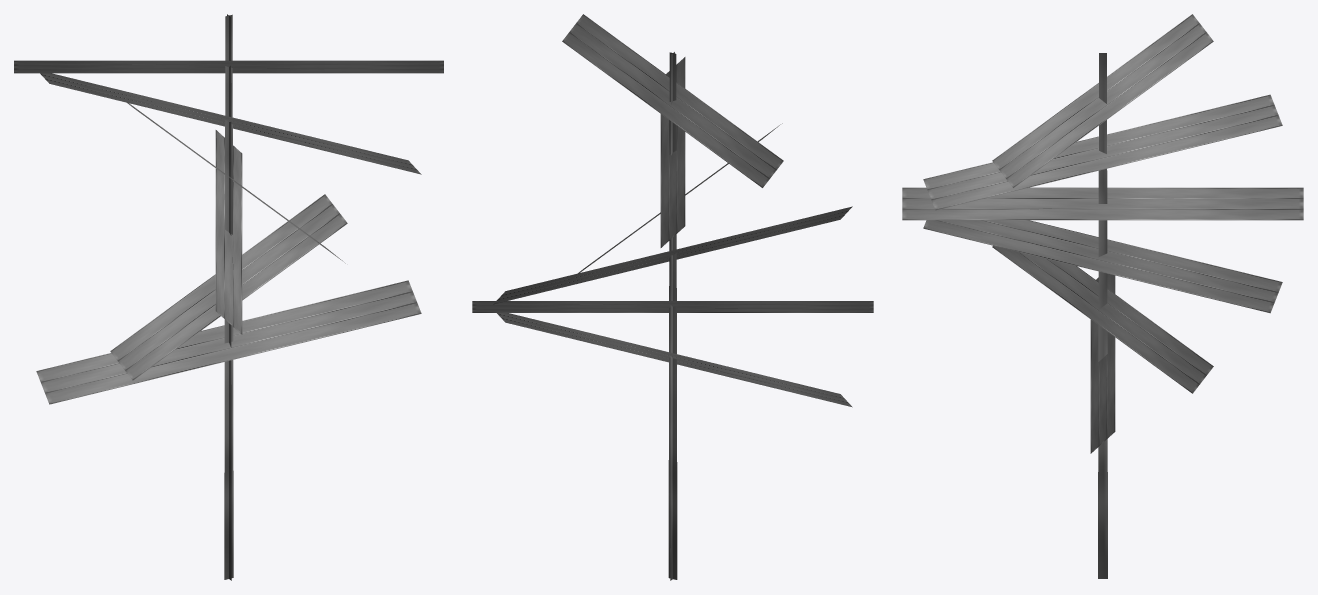
The model's file is antenna_1.obj.
The picture shows the model from 3 angles, left to right: view 1: azimuth 30°, elevation 25°; view 2: azimuth 150°, elevation 25°; view 3: azimuth 270°, elevation 25°; orthographic projection. The views are drawn at different scales.
Parts seen in each view (by area): view 1: antenna_1; view 2: antenna_1; view 3: antenna_1.
Boxes of the visible parts, x1,y1,x2,y2 form: antenna_1: (14, 14, 443, 580); antenna_1: (472, 14, 873, 580); antenna_1: (902, 14, 1303, 578).
Bounding box in the file's own units: 1.5 × 2.17 × 1.5.
Materials: 1 (1 with a texture image).
